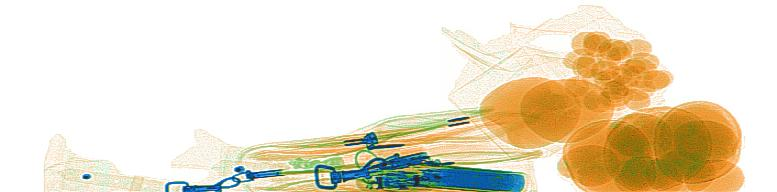battery: (357, 157, 529, 189)
